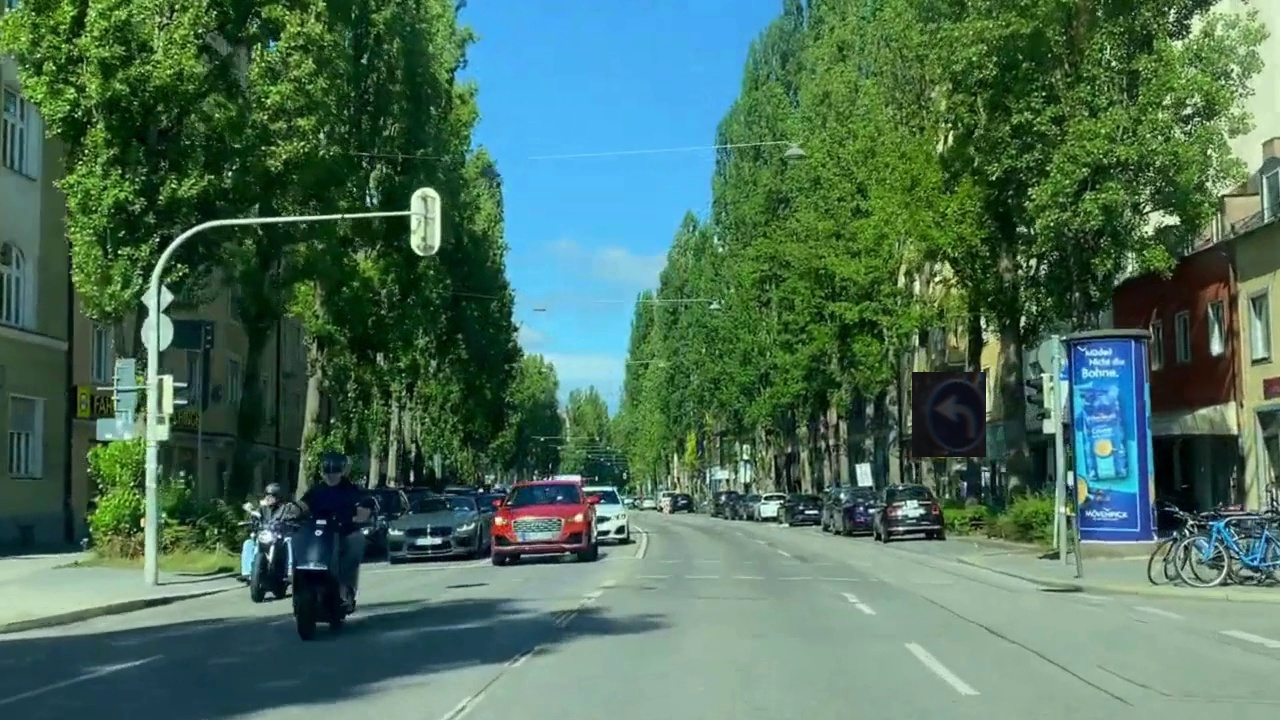Turn left: (912, 372, 986, 457)
